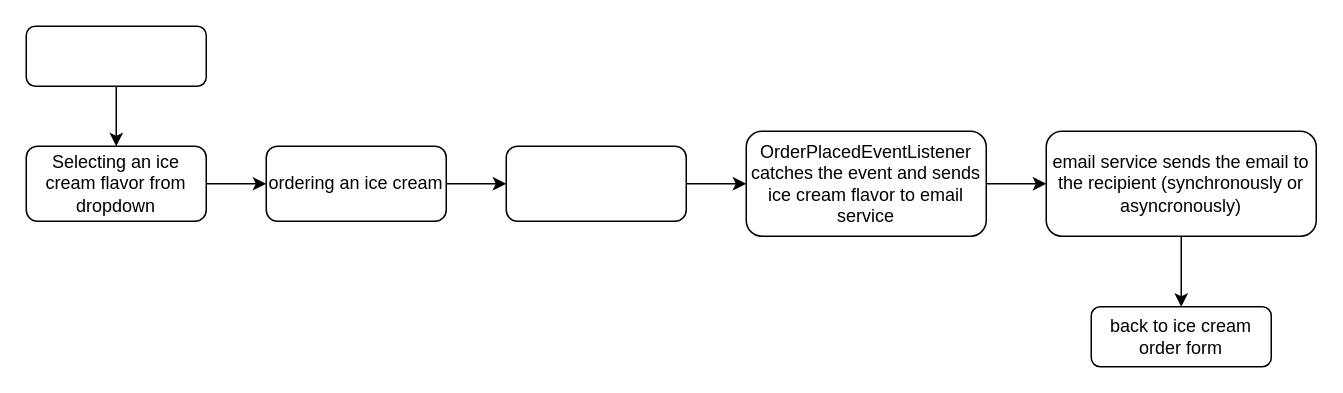
Image size: 1343x393. Some labels were removed from this diagram. Each missing label, with the centre of its shape:
Landing on ice cream order form: (x=115, y=55)
OrderPlacedEvent get published: (x=595, y=183)
